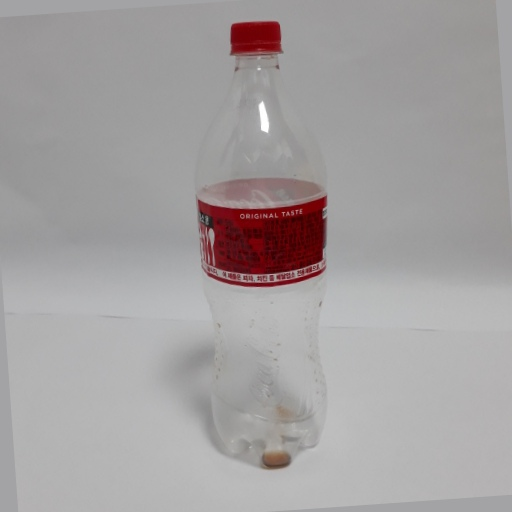Plastic_0: (188, 17, 341, 476)
